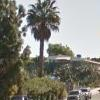Palm tree: (23, 0, 68, 73)
